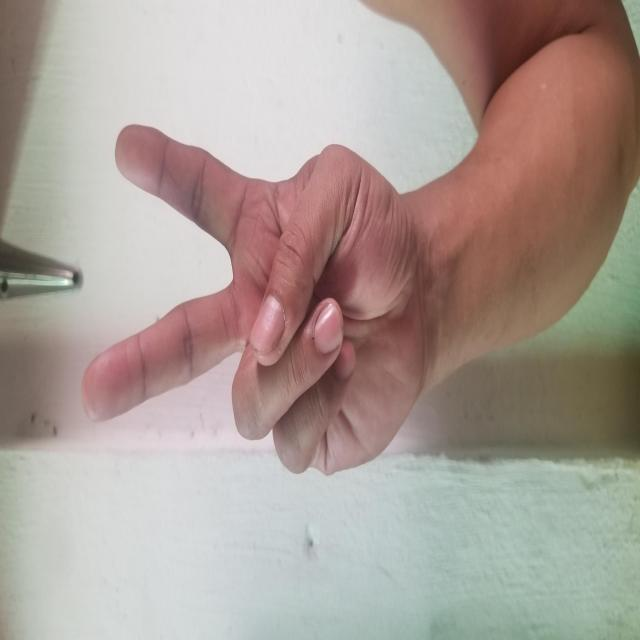V: (162, 83, 519, 422)
